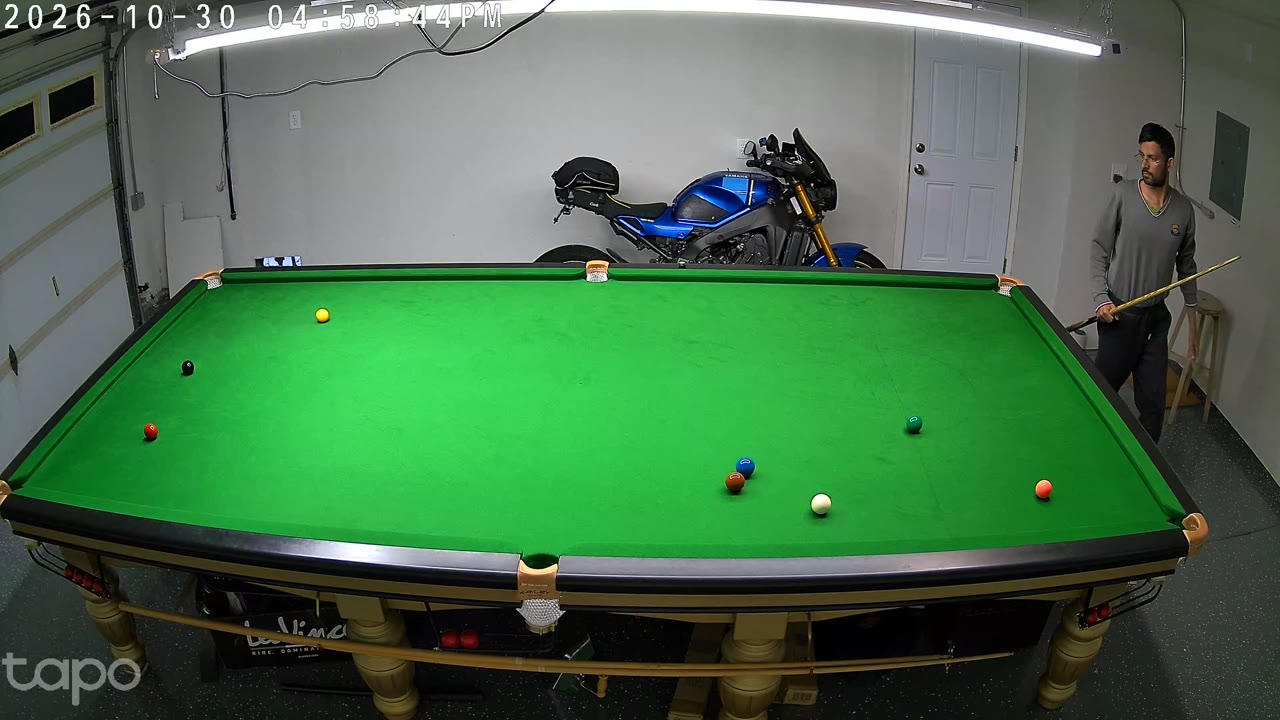black: (182, 358, 194, 378)
blue: (736, 455, 755, 482)
brown: (725, 471, 743, 496)
green: (906, 413, 923, 436)
red: (1035, 477, 1052, 502), (144, 422, 157, 442)
white: (810, 491, 832, 519)
yellow: (316, 308, 328, 325)
